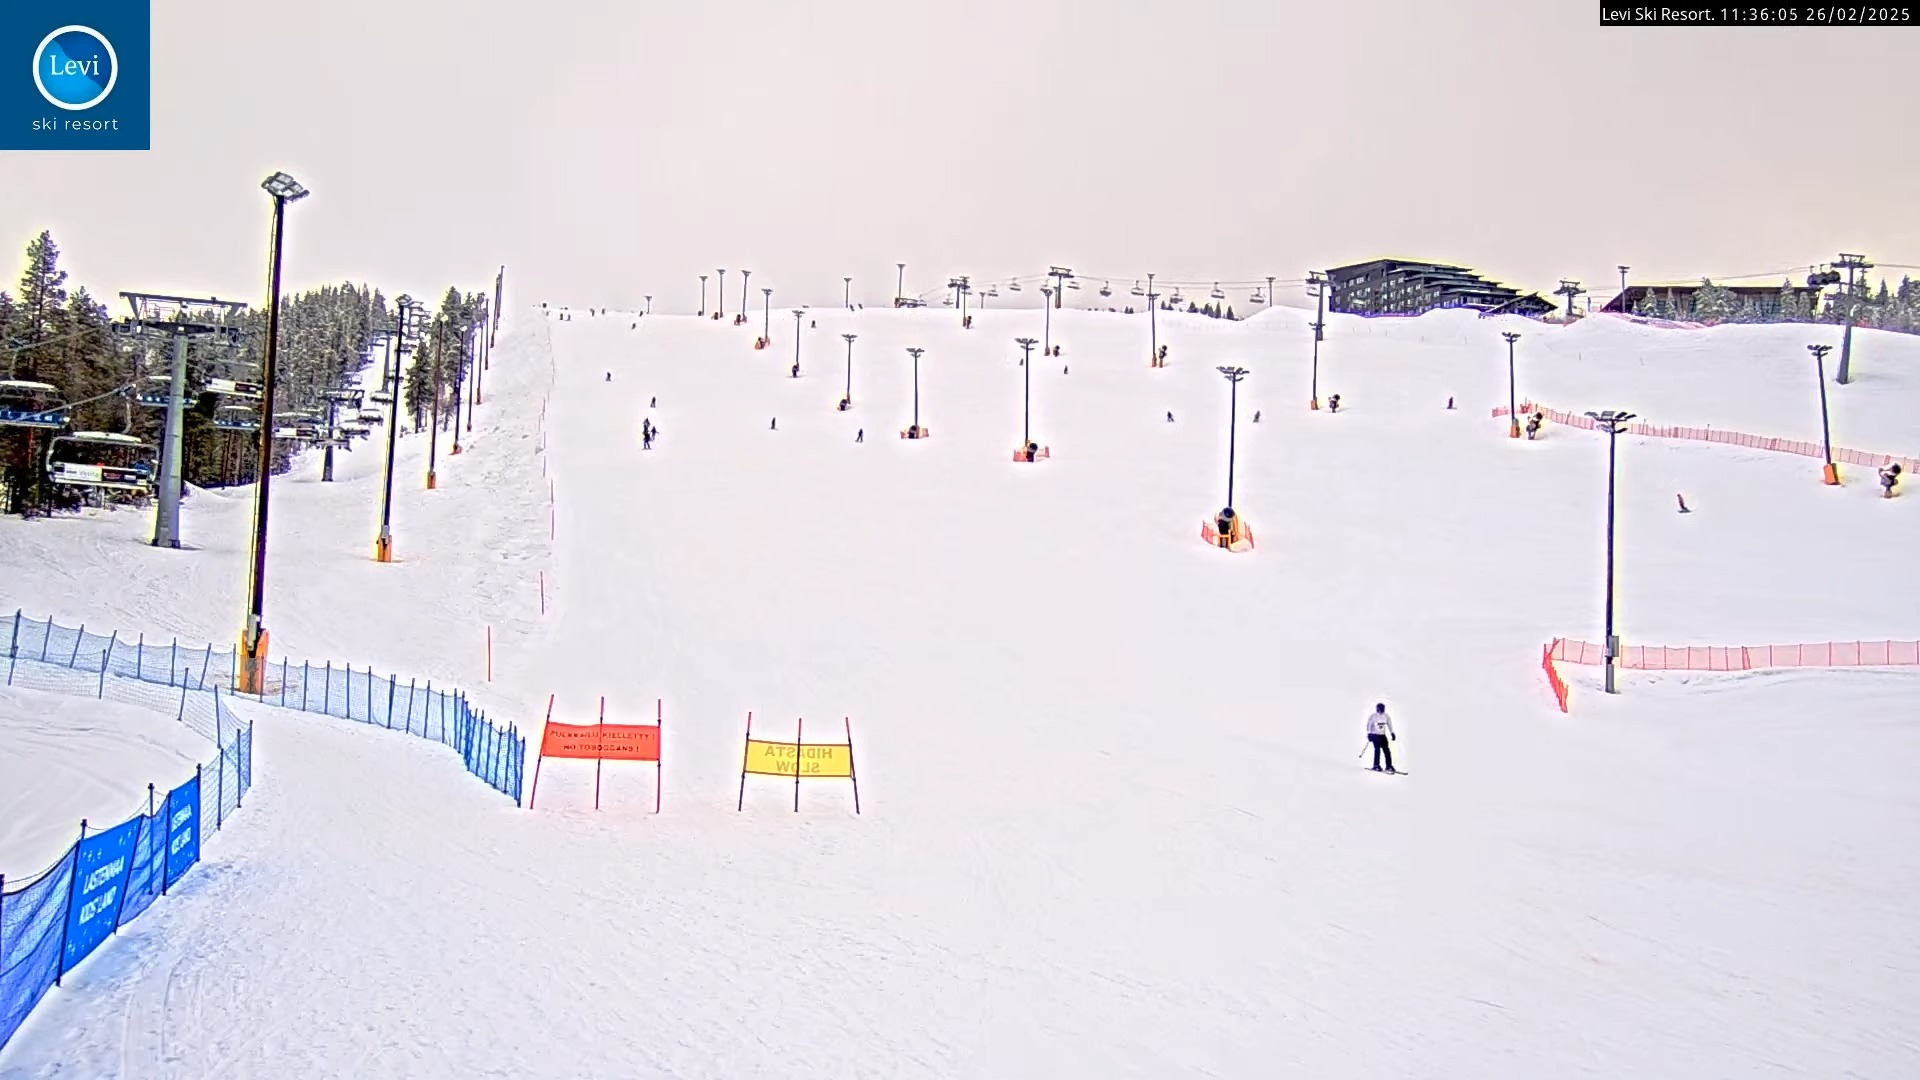skier: (1357, 698, 1410, 775)
